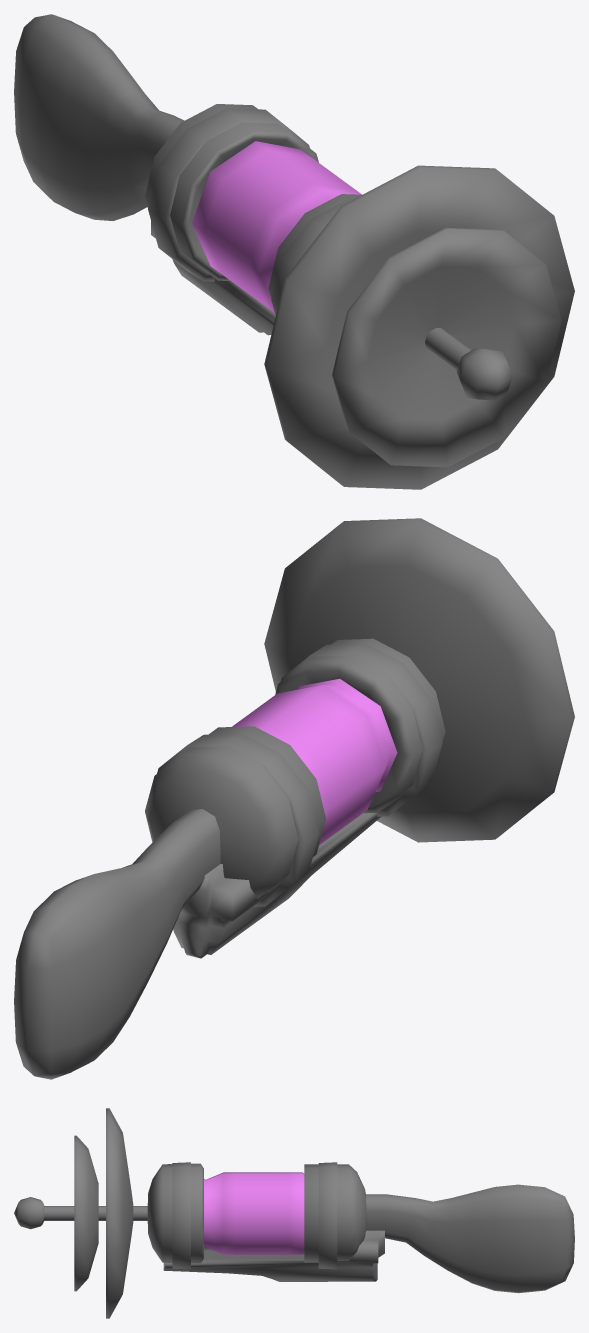
The model's file is GemGun 1.fbx.
3 views of the same model, one above another, from view 1: azimuth 30°, elevation 25°; view 2: azimuth 150°, elevation 25°; view 3: azimuth 270°, elevation 25° (orthographic). The views are drawn at different scales.
Visible parts, largest first — view 1: Cube.002, Plane; view 2: Cube.002, Plane; view 3: Cube.002, Plane.
Part boxes in pixels (bbox=[...]): Cube.002: bbox=[14, 14, 574, 489]; Plane: bbox=[192, 141, 361, 312]; Cube.002: bbox=[14, 518, 574, 1079]; Plane: bbox=[232, 678, 397, 844]; Cube.002: bbox=[14, 1108, 574, 1318]; Plane: bbox=[204, 1172, 304, 1254].
Bounding box in the file's own units: 225 × 225 × 599.
